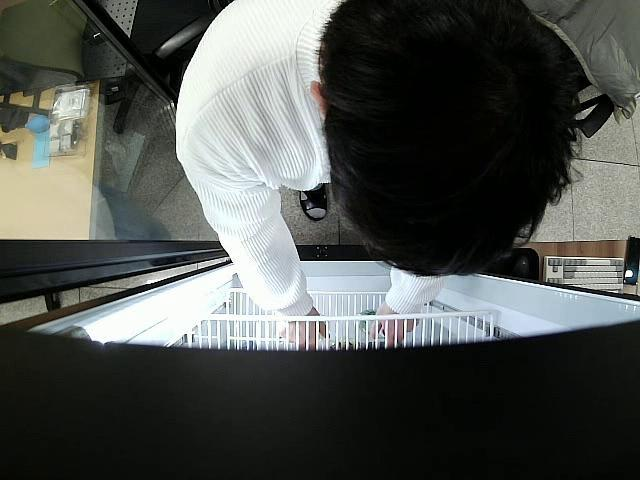18_trevi: (358, 309, 384, 337)
